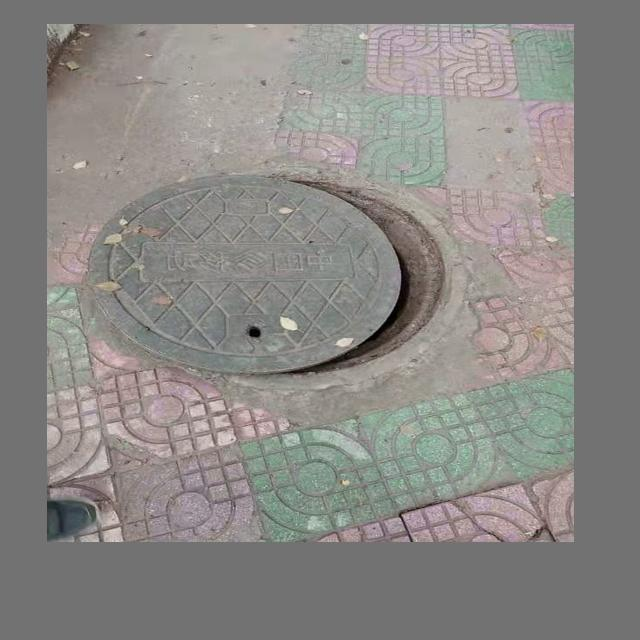uncovered: (70, 160, 456, 396)
